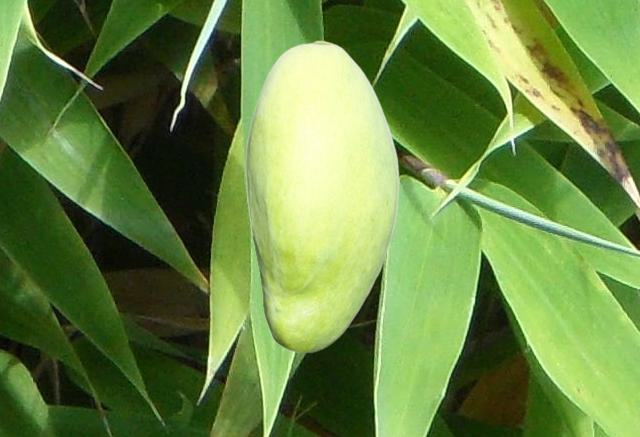green_mango: (245, 40, 398, 352)
